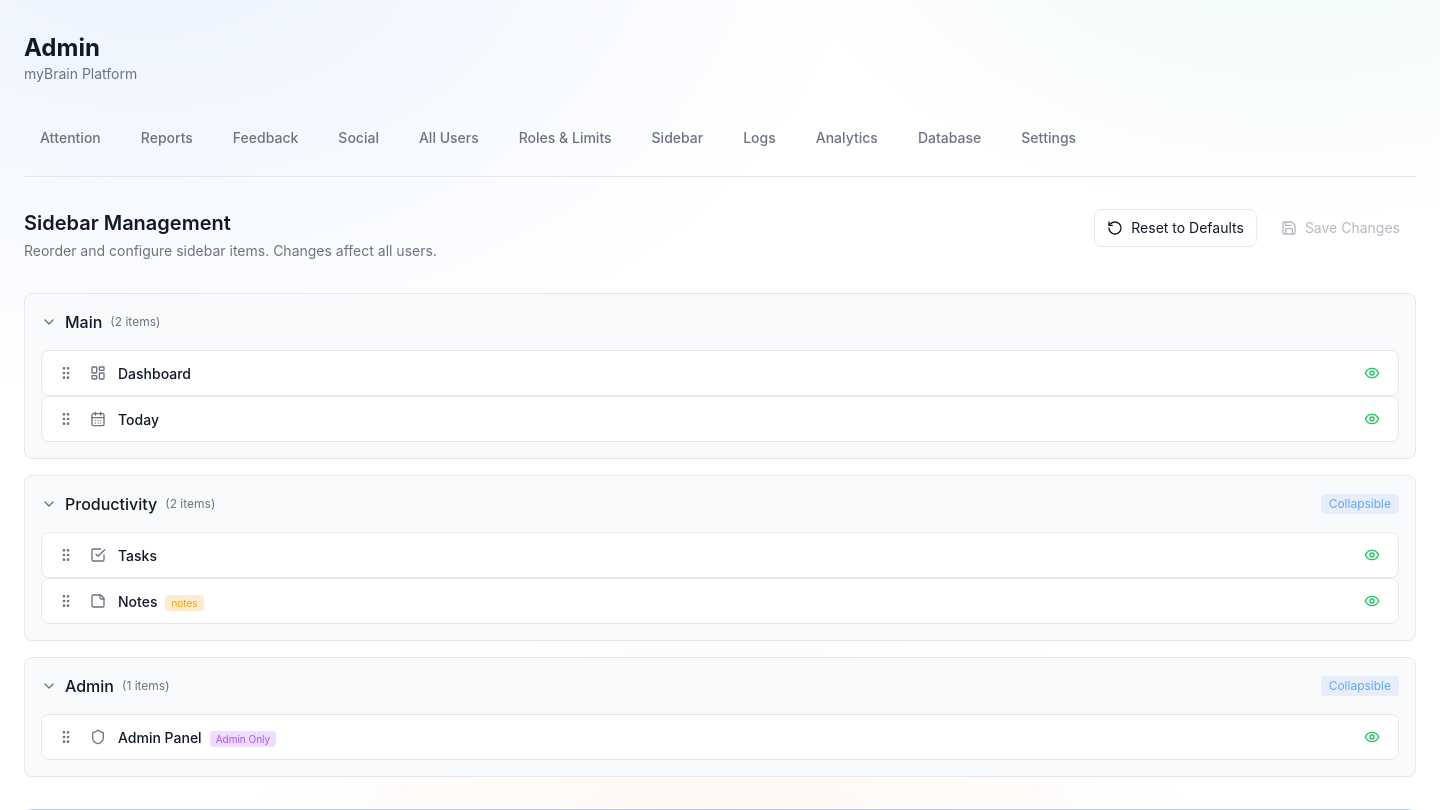
AdminSidebarPage › Save Changes Button › shows success state after saving
# Make a change
What coordinates should you click on to do the following:
click the button titled "Hide item" in the row of "Dashboard"
I would click on:
 (1372, 373)
Its box is [1358,359,1386,387].
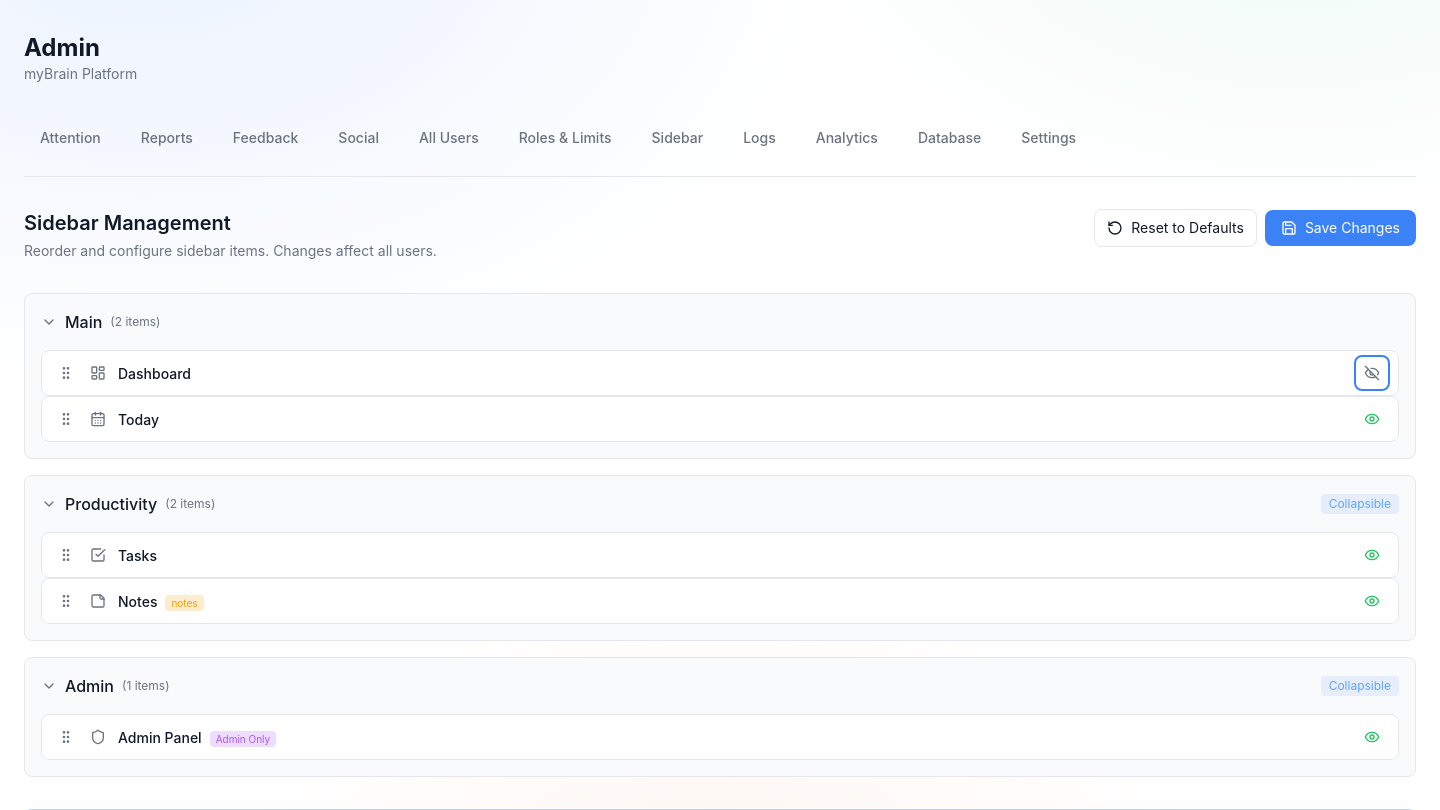
# Click save
What coordinates should you click on to do the following:
click the button "Save Changes"
I would click on:
 (1340, 228)
Its box is [1265,210,1416,246].
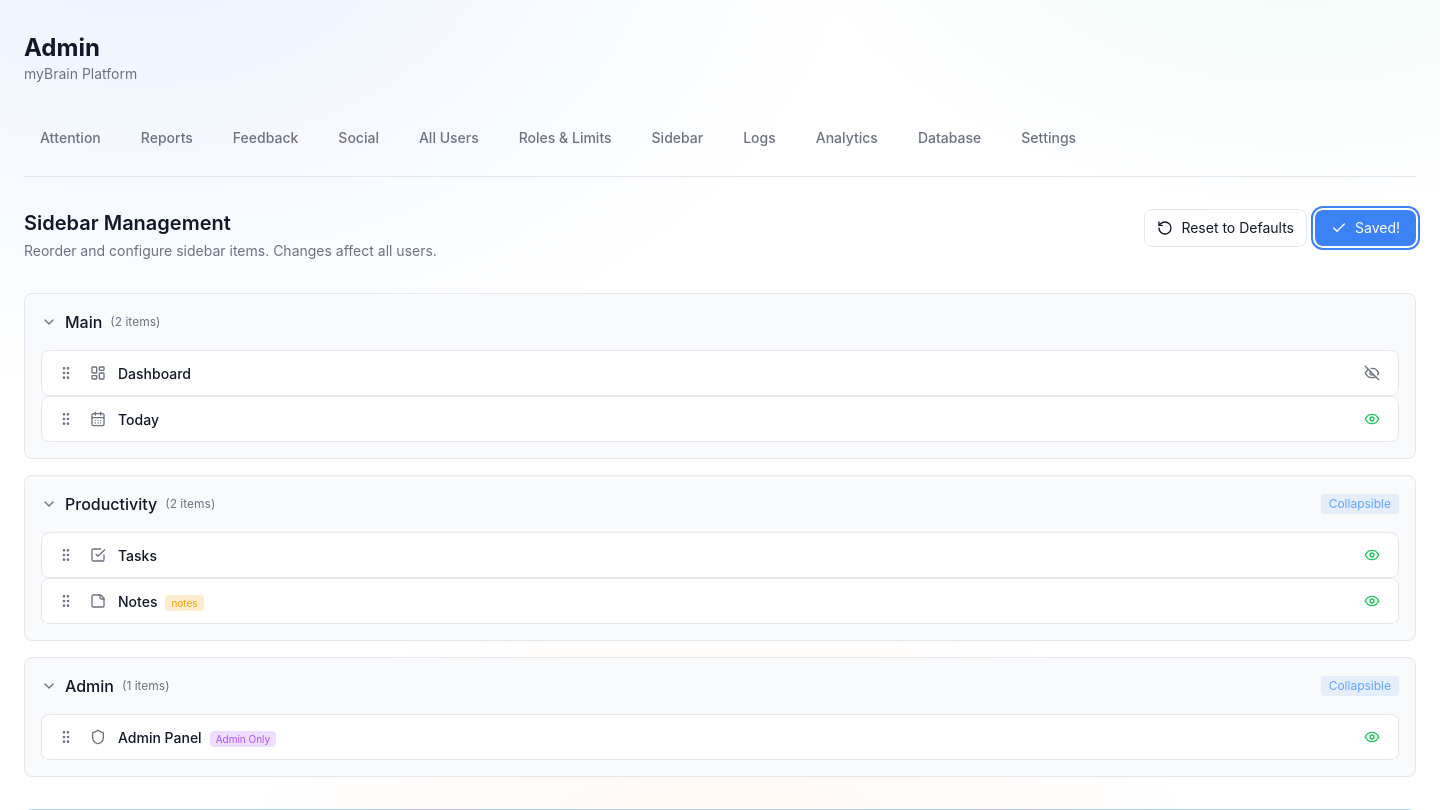
Result: the button "Saved!" is shown at [1315,210,1416,246]
